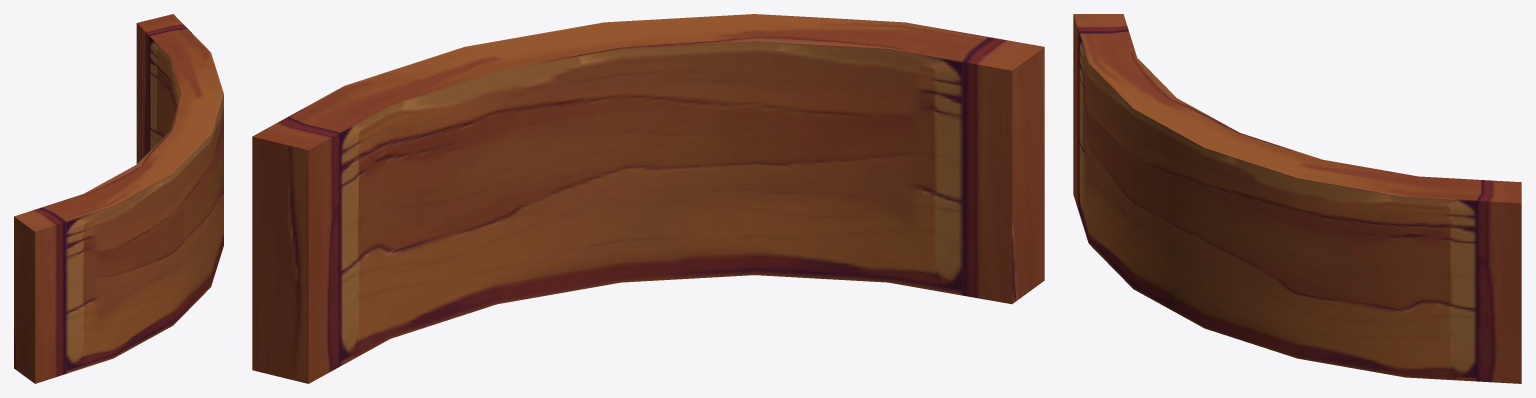
File: arched_fence_wood_02.fbx
3 views of the same model, side by side, from view 1: azimuth 30°, elevation 25°; view 2: azimuth 150°, elevation 25°; view 3: azimuth 270°, elevation 25° (orthographic). The views are drawn at different scales.
Visible parts, largest first — view 1: arched_fence_wood_02; view 2: arched_fence_wood_02; view 3: arched_fence_wood_02.
Boxes of the visible parts, bbox=[...] form: arched_fence_wood_02: bbox=[14, 14, 223, 383]; arched_fence_wood_02: bbox=[252, 14, 1044, 383]; arched_fence_wood_02: bbox=[1073, 14, 1521, 383].
Bounding box in the file's own units: 90 × 40 × 90.
